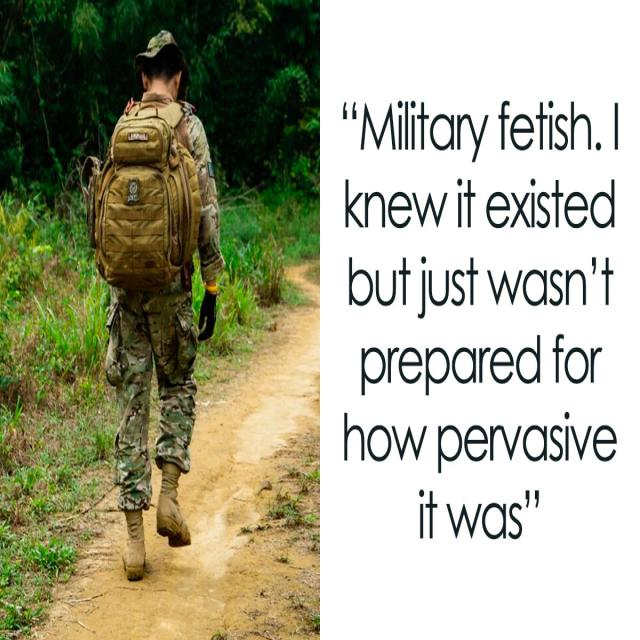Walking: (82, 24, 242, 594)
